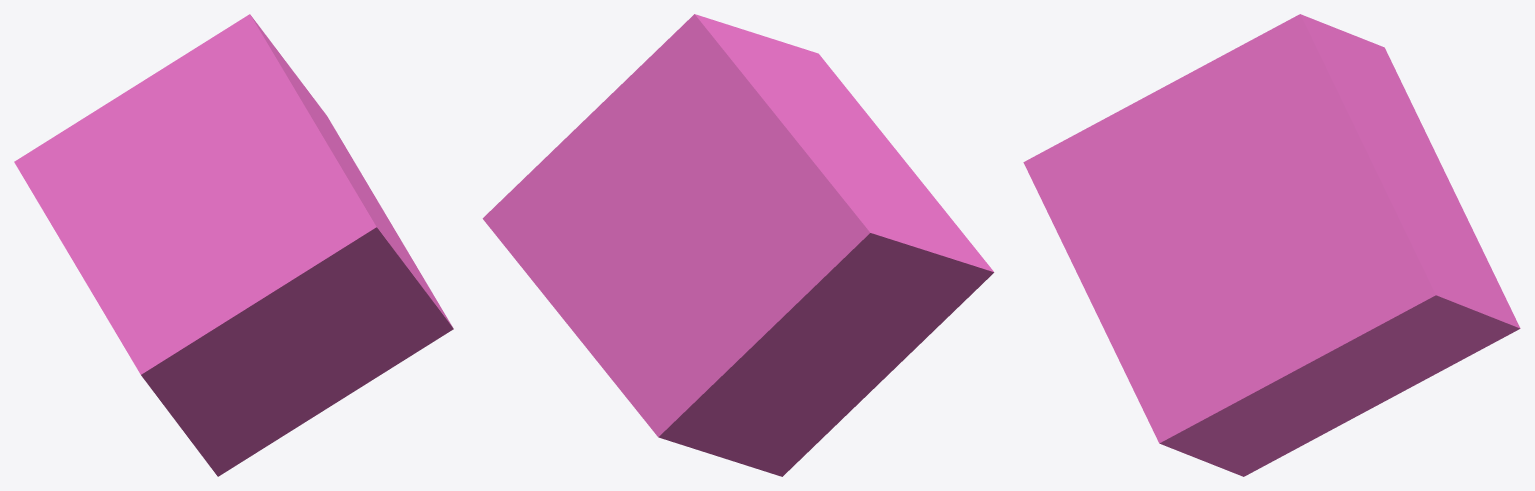
The model's file is InfoExpo_OperacionFracaso.gltf.
3 renders of one model, left to right at view 1: azimuth 30°, elevation 25°; view 2: azimuth 150°, elevation 25°; view 3: azimuth 270°, elevation 25°, orthographic. The views are drawn at different scales.
Visible parts, largest first — view 1: InfoExpo_OperacionFracaso; view 2: InfoExpo_OperacionFracaso; view 3: InfoExpo_OperacionFracaso.
Part boxes in pixels (left/top/right/bottom): InfoExpo_OperacionFracaso: left=14, top=14, right=453, bottom=476; InfoExpo_OperacionFracaso: left=482, top=14, right=994, bottom=476; InfoExpo_OperacionFracaso: left=1023, top=14, right=1520, bottom=476.
Bounding box in the file's own units: 0.3035 × 0.3661 × 0.3335.
